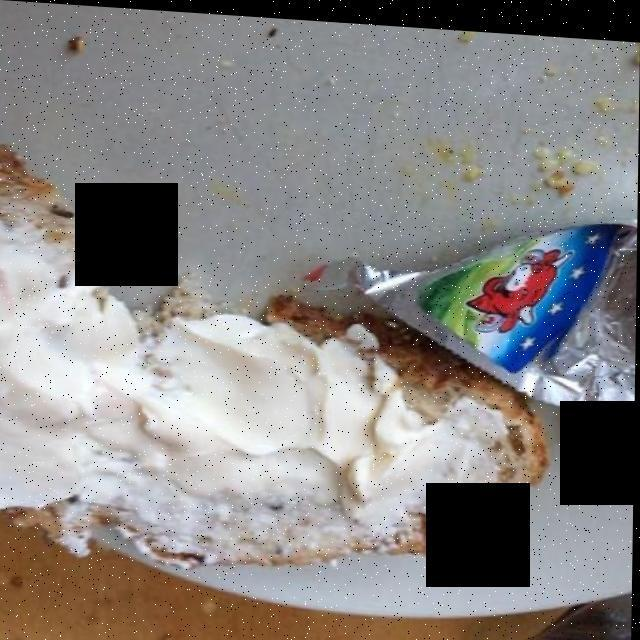bread: (5, 171, 544, 565)
